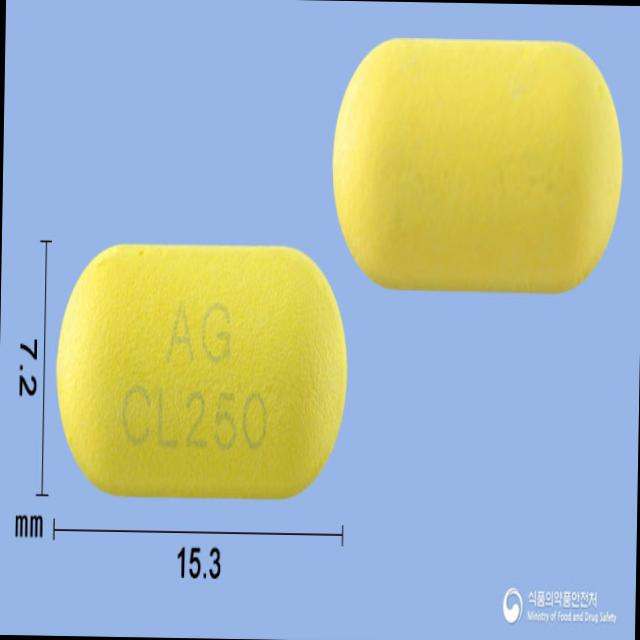Shuclari Tab: (54, 242, 352, 502)
